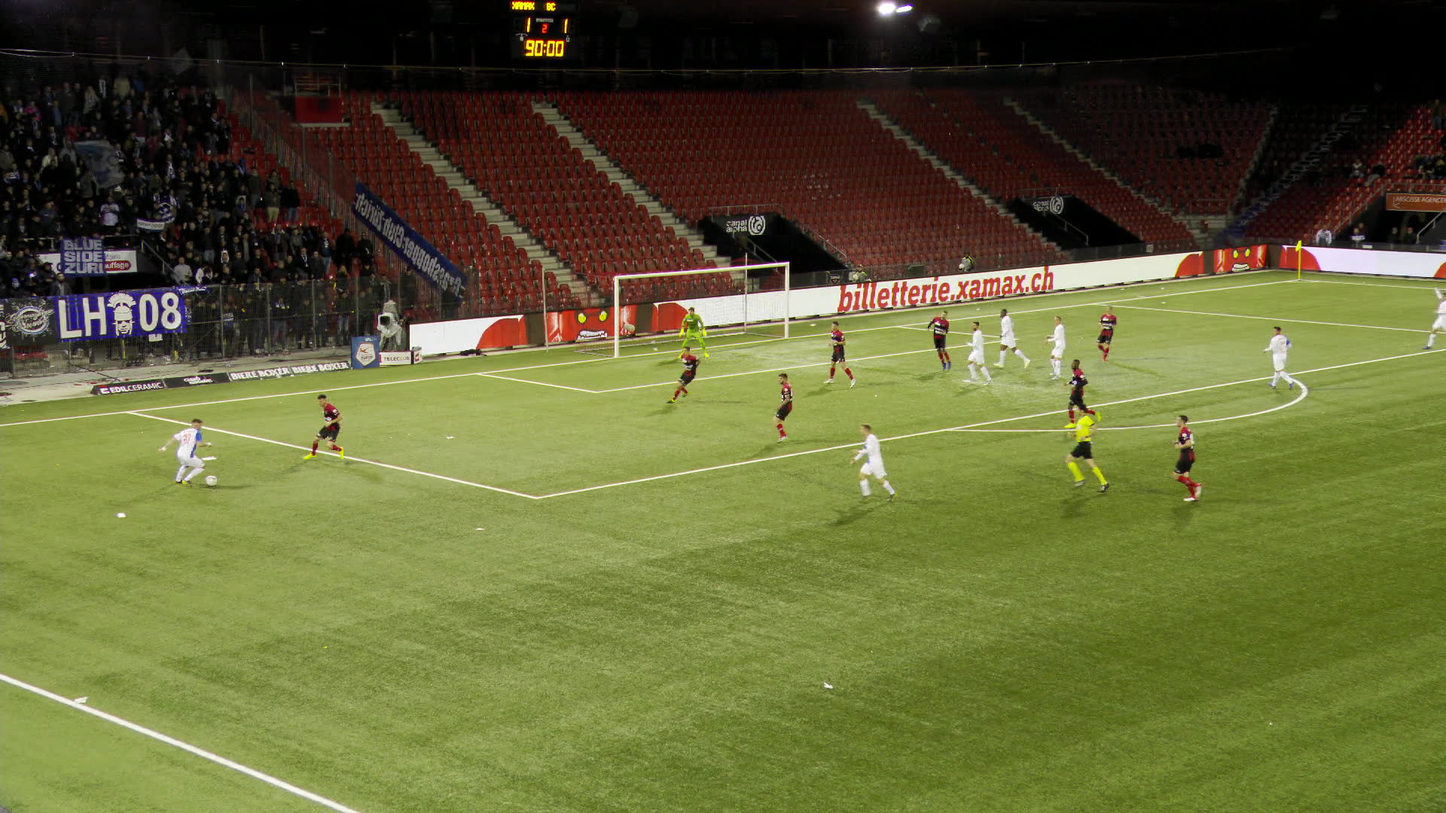ball: (201, 475, 213, 484)
player: (1167, 410, 1213, 500), (847, 425, 898, 502), (166, 416, 215, 486), (310, 397, 346, 465), (764, 373, 797, 442), (669, 346, 702, 403), (1063, 356, 1090, 425), (926, 312, 957, 370), (1264, 327, 1291, 391), (998, 310, 1026, 369), (967, 322, 993, 385), (677, 307, 709, 358), (829, 321, 853, 388), (1423, 285, 1445, 351), (1094, 304, 1119, 361), (1043, 315, 1065, 379)
referee: (1066, 405, 1114, 492)
